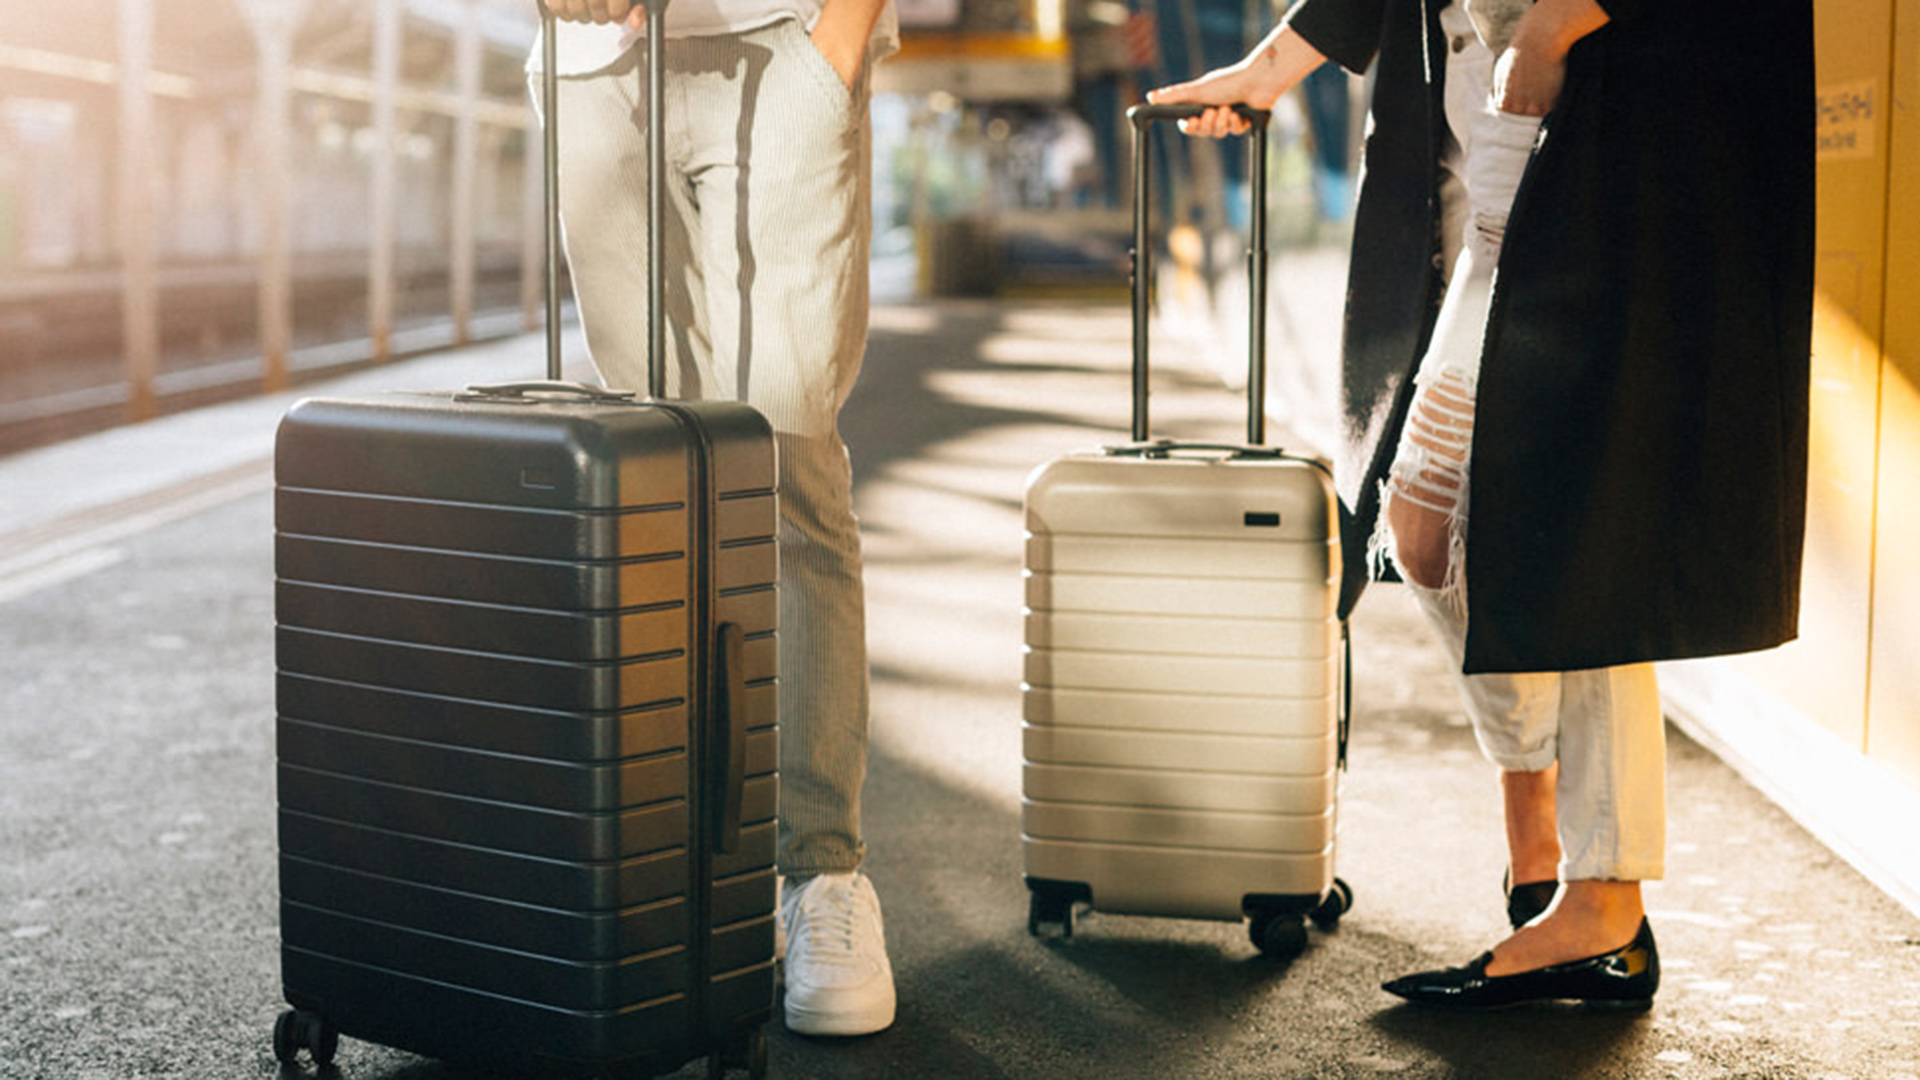luggage: (256, 20, 775, 1072), (1018, 120, 1346, 942)
